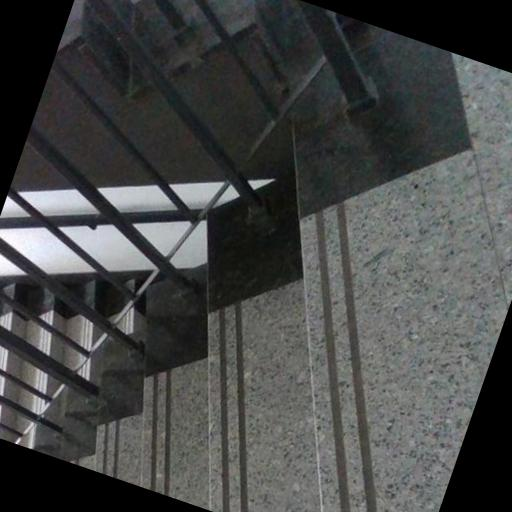stairs: (21, 33, 507, 511)
